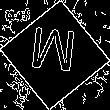M_S: (30, 28, 80, 82)
